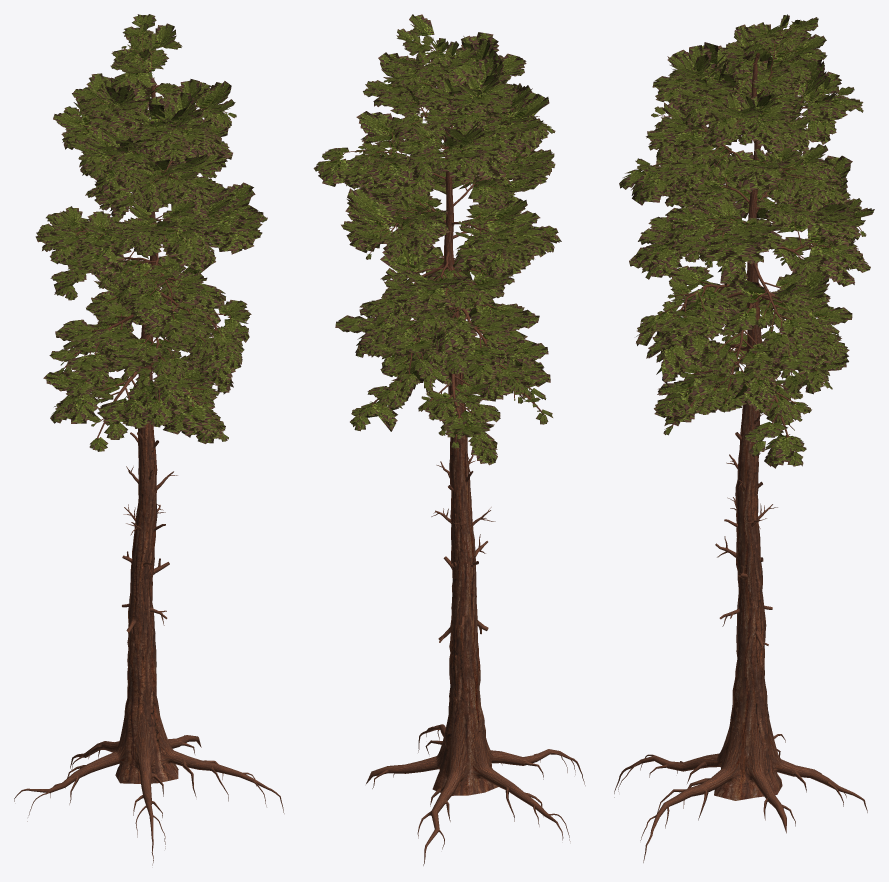
File: RedWoodTreeTall4.fbx
3 views of the same model, side by side, from view 1: azimuth 30°, elevation 25°; view 2: azimuth 150°, elevation 25°; view 3: azimuth 270°, elevation 25° (orthographic). The views are drawn at different scales.
Parts seen in each view (by area): view 1: RedWoodTreeTall4; view 2: RedWoodTreeTall4; view 3: RedWoodTreeTall4.
Part boxes in pixels (left/top/right/bottom): RedWoodTreeTall4: left=14, top=14, right=284, bottom=865; RedWoodTreeTall4: left=313, top=14, right=585, bottom=865; RedWoodTreeTall4: left=614, top=14, right=874, bottom=862.
Size of the model in its own units: 257 by 245 by 854.
